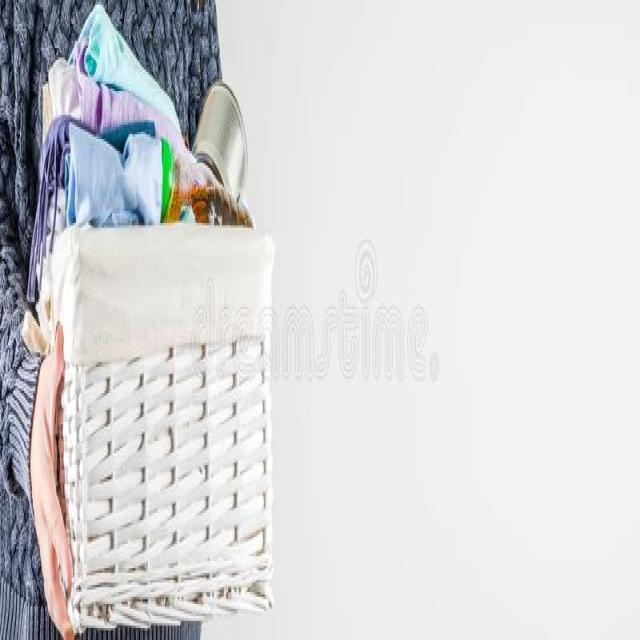clothes: (46, 93, 198, 240)
